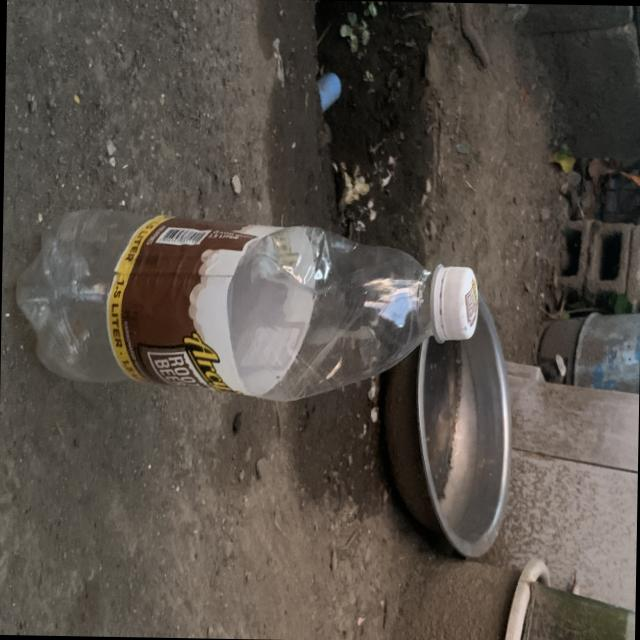Bottle: (15, 210, 476, 401)
